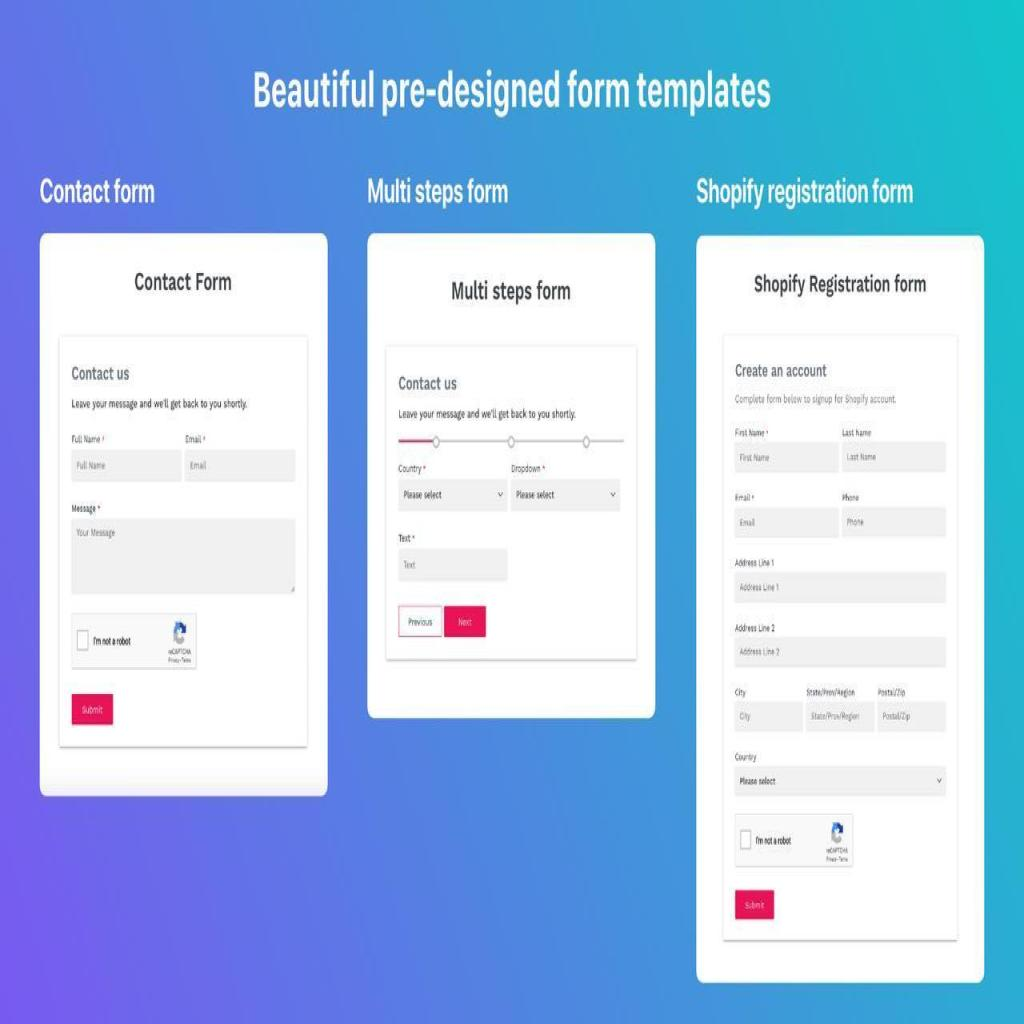button: (398, 606, 442, 638), (734, 888, 776, 920), (444, 606, 486, 638), (72, 694, 114, 725)
checkbox: (739, 828, 753, 852), (76, 628, 89, 652)
dropdown: (736, 765, 946, 797), (512, 479, 621, 511), (399, 479, 507, 511)
input: (734, 637, 946, 669), (736, 572, 946, 603), (182, 448, 296, 485), (71, 448, 182, 484), (398, 549, 509, 580), (842, 506, 946, 538), (734, 508, 840, 539), (842, 441, 946, 472), (734, 442, 839, 472), (806, 701, 875, 733), (878, 701, 947, 733), (734, 701, 802, 731)
label: (731, 618, 778, 636), (805, 687, 859, 698), (510, 459, 546, 475), (395, 459, 428, 475), (733, 426, 770, 440), (72, 499, 102, 516), (70, 431, 106, 445), (734, 556, 775, 568), (874, 685, 908, 697), (841, 424, 873, 436), (732, 751, 762, 762), (397, 531, 418, 546), (732, 492, 758, 504), (840, 490, 862, 504), (730, 686, 754, 698), (184, 434, 206, 445)
